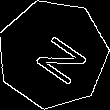N_NW: (20, 23, 85, 85)
